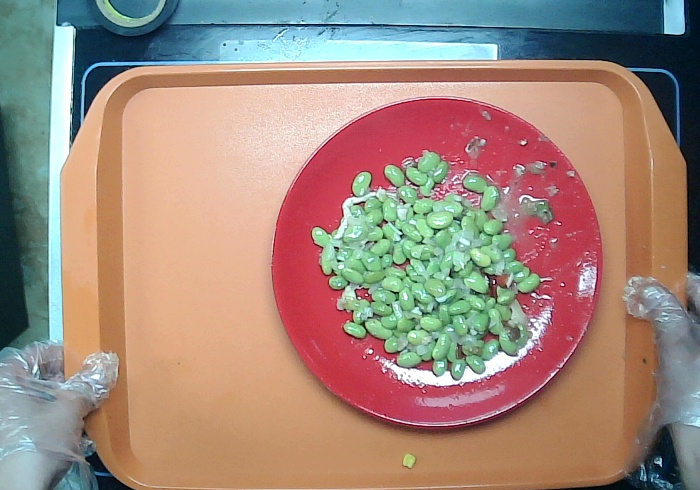HZYJPL-Hong_Se_Yuan_Pan: (258, 86, 608, 434)
